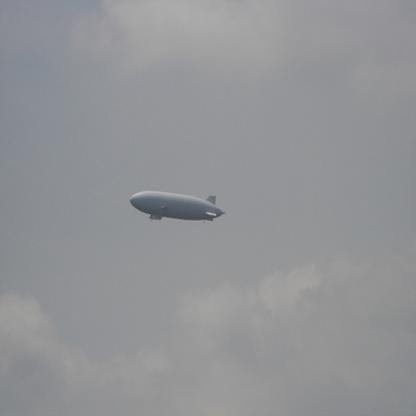Airship: (130, 185, 226, 231)
